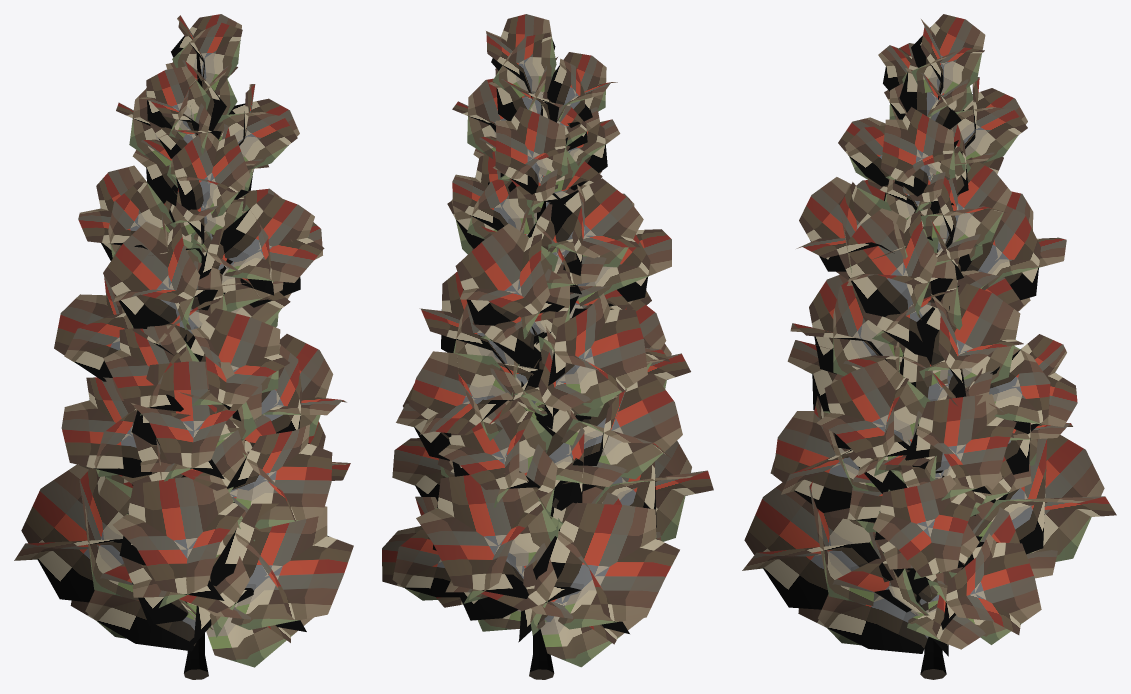
Rendered from SM_Tree_Birch_02_LOD_01.fbx.
The picture shows the model from 3 angles, left to right: view 1: azimuth 30°, elevation 25°; view 2: azimuth 150°, elevation 25°; view 3: azimuth 270°, elevation 25°; orthographic projection.
Parts seen in each view (by area): view 1: SM_Tree_Birch_02_LOD01; view 2: SM_Tree_Birch_02_LOD01; view 3: SM_Tree_Birch_02_LOD01.
Boxes of the visible parts, x1=… form: SM_Tree_Birch_02_LOD01: x1=14, y1=14, x2=353, y2=679; SM_Tree_Birch_02_LOD01: x1=382, y1=14, x2=713, y2=679; SM_Tree_Birch_02_LOD01: x1=742, y1=14, x2=1116, y2=679.
Size of the model in its own units: 250 by 540 by 279.
